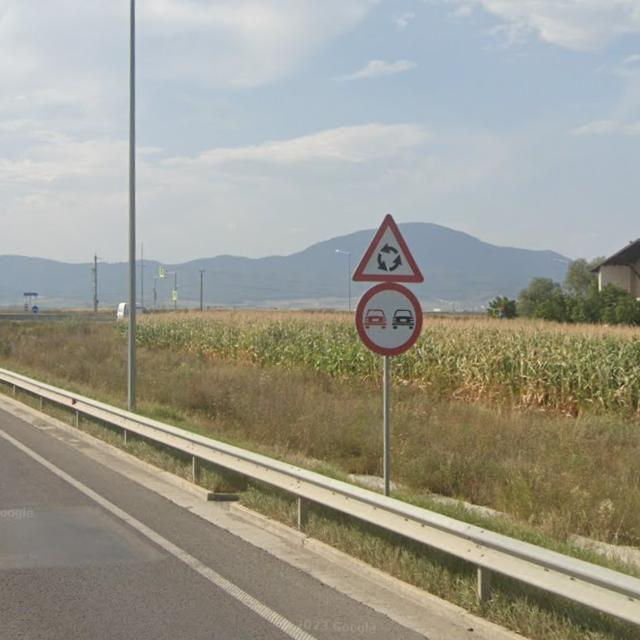forb_overtake: (357, 280, 424, 358)
